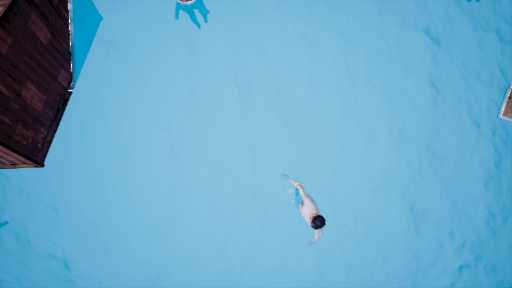person: (284, 179, 337, 242)
